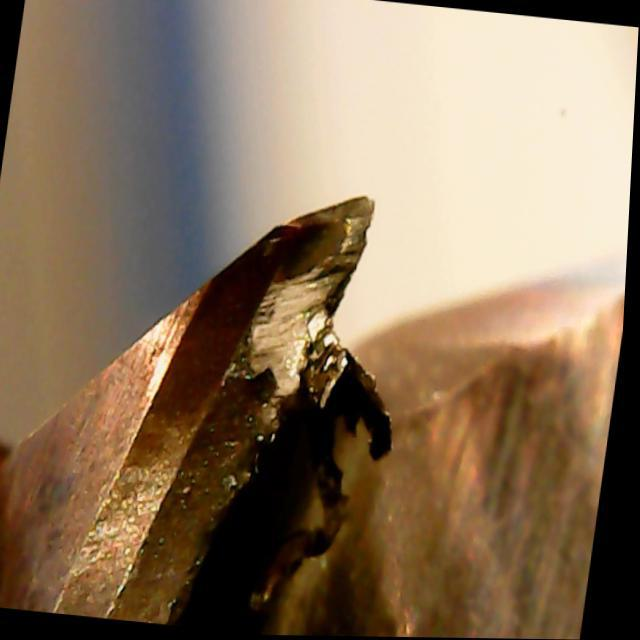Tool-wear-class-3: (152, 166, 438, 458)
